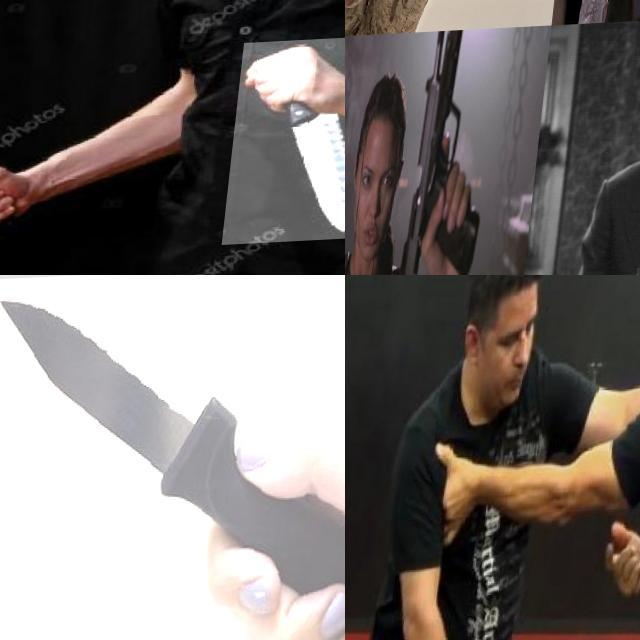-: (0, 275, 345, 640), (234, 41, 345, 249)
gun-knife-thesis - v11 Yolov5 augmented: (400, 33, 508, 275), (345, 35, 395, 271), (408, 0, 494, 57)
